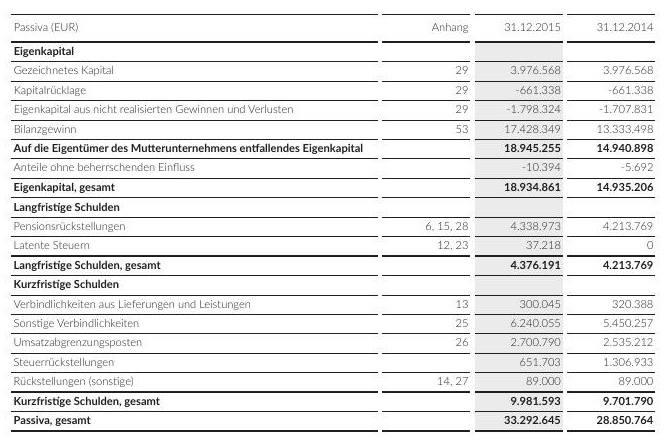table: (0, 0, 672, 442)
